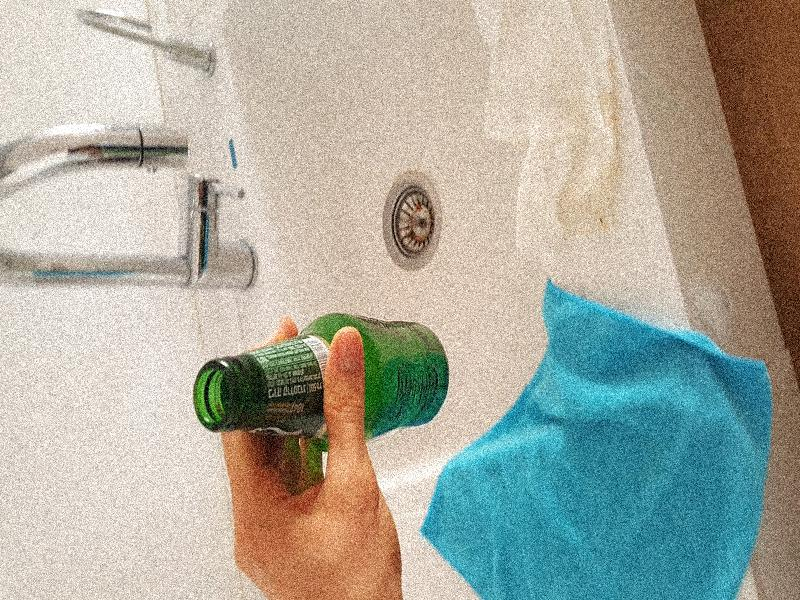Beer: (193, 311, 450, 448)
